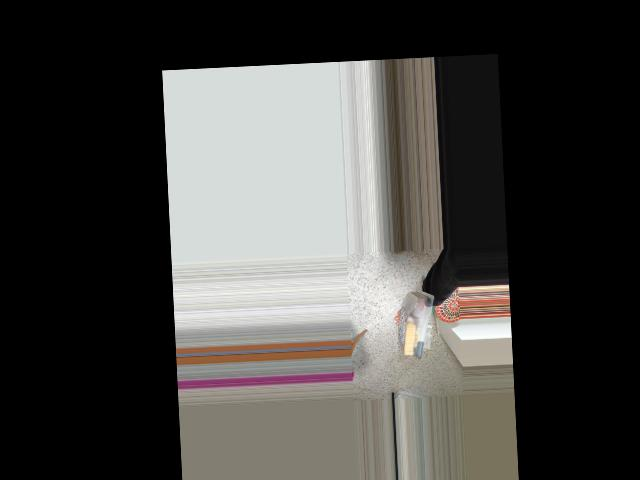cheese: (394, 291, 439, 359)
